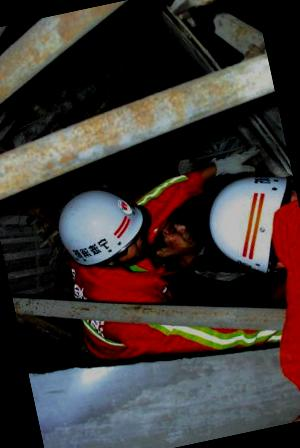no_helmet: (136, 202, 200, 270)
